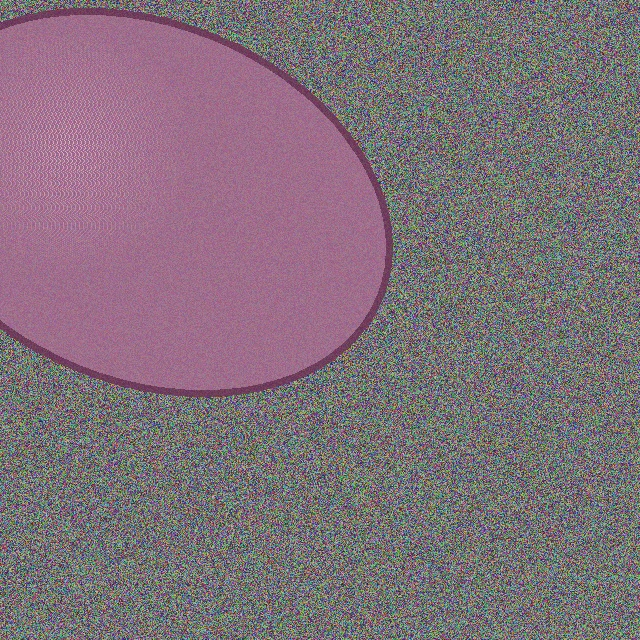lens: (0, 11, 389, 393)
